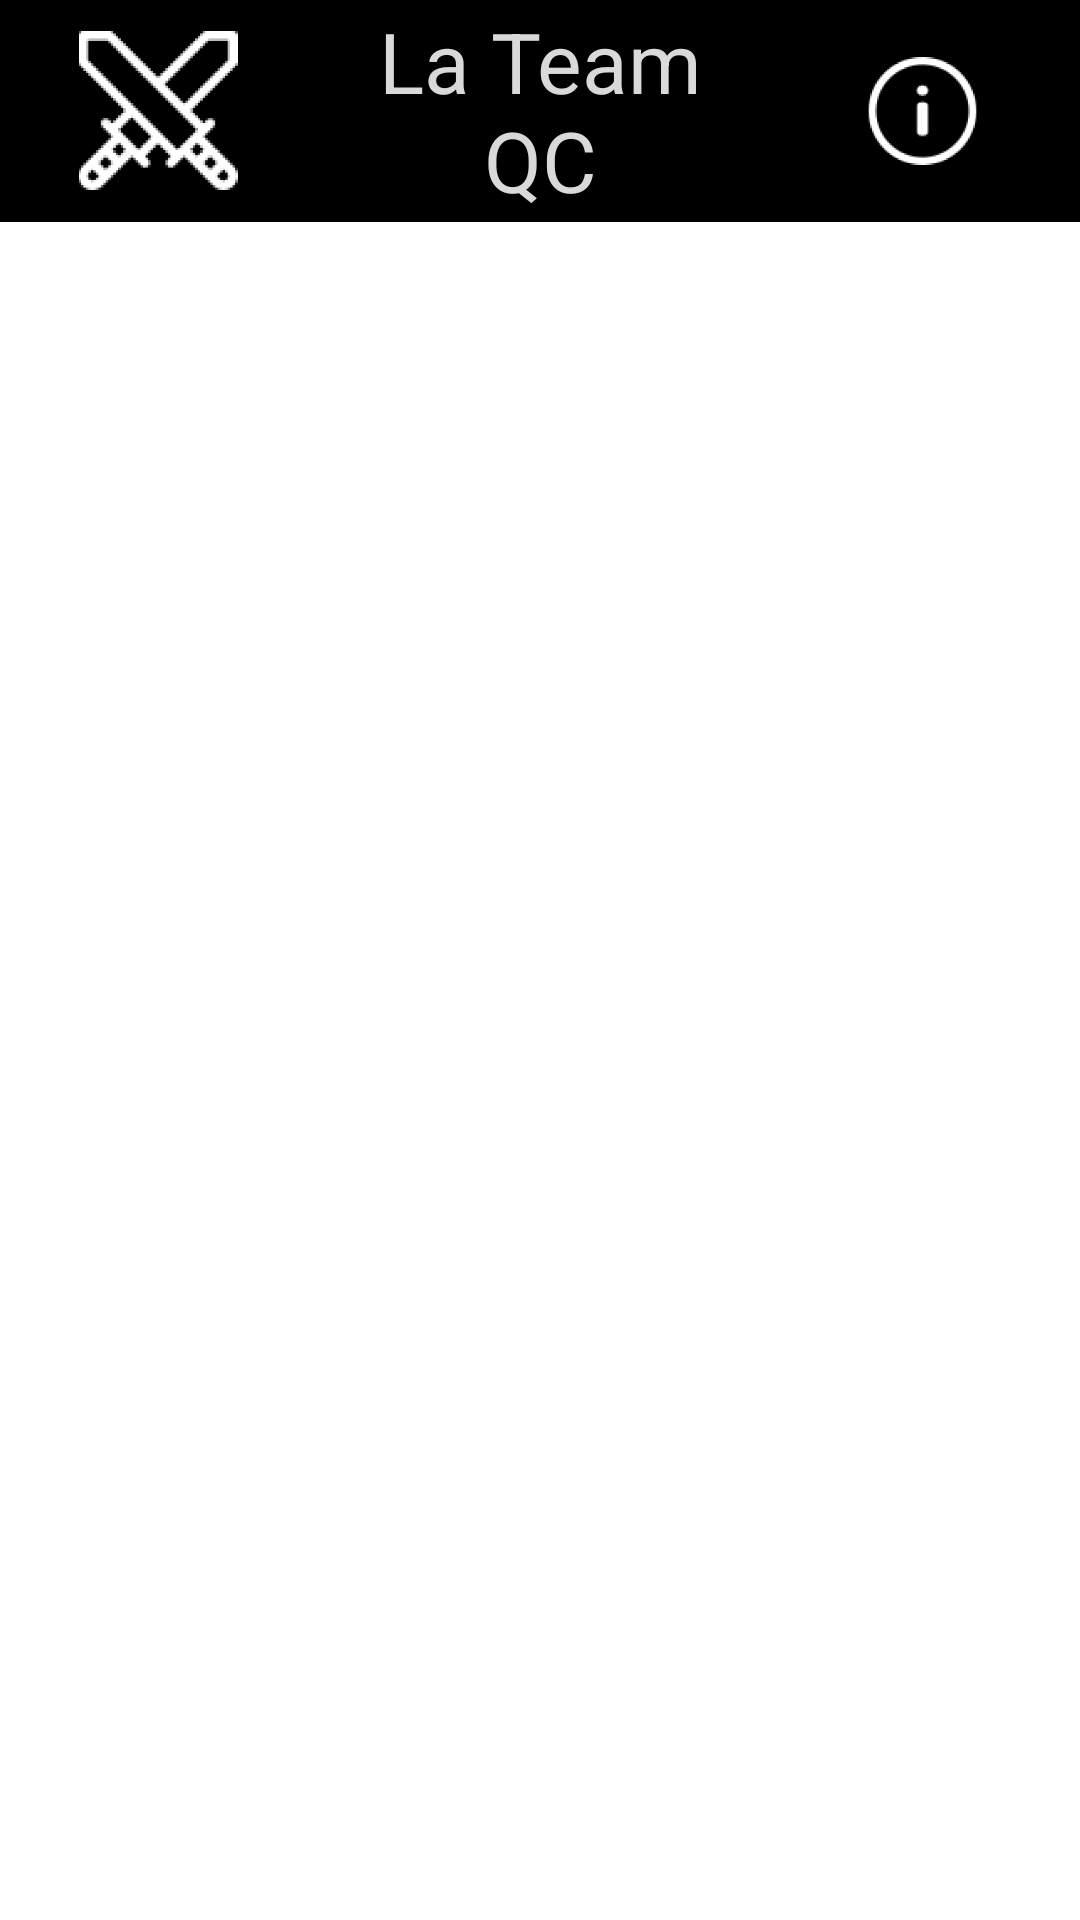

Where icons sit on this 1080px x 1920px app screen, as {"x1": x1, "y1": y1, "x2": x2, "y2": y2}:
info: {"x1": 868, "y1": 57, "x2": 977, "y2": 165}
swords: {"x1": 79, "y1": 31, "x2": 238, "y2": 190}
